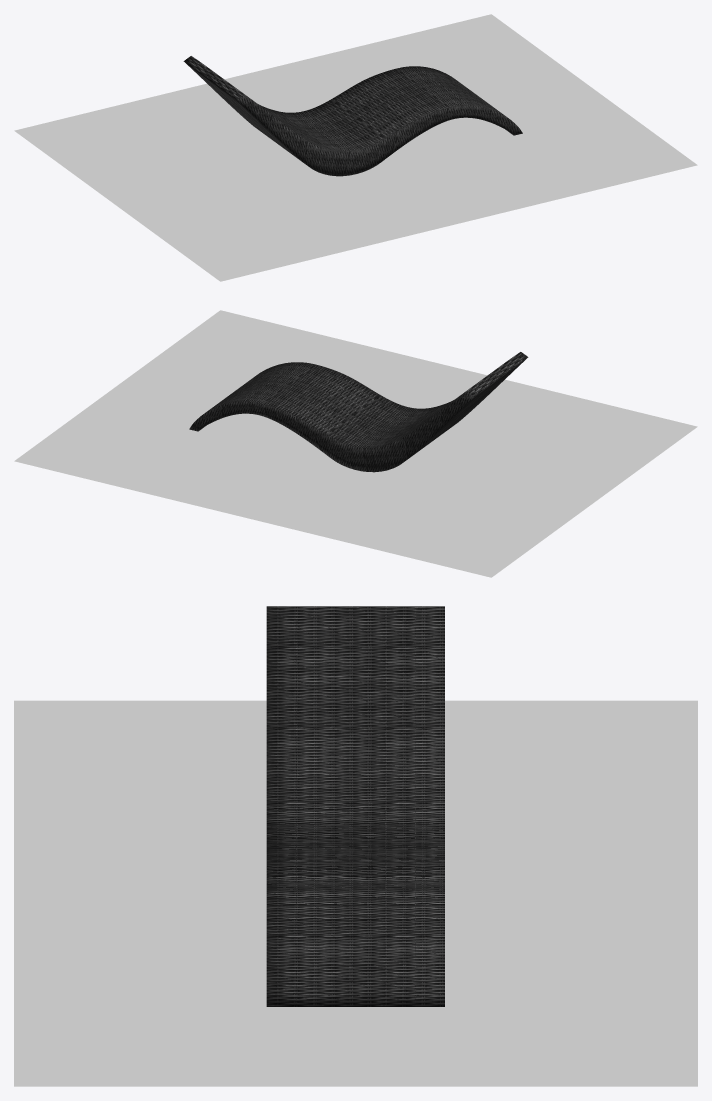
The model's file is beachchair.glb.
3 views of the same model, one above another, from view 1: azimuth 30°, elevation 25°; view 2: azimuth 150°, elevation 25°; view 3: azimuth 270°, elevation 25° (orthographic). The views are drawn at different scales.
Parts seen in each view (by area): view 1: Plane, beach chair; view 2: Plane, beach chair; view 3: Plane, beach chair.
Part boxes in pixels (x1,y1,x2,y2): Plane: [14, 14, 697, 281]; beach chair: [183, 56, 522, 176]; Plane: [14, 310, 697, 577]; beach chair: [189, 352, 528, 472]; Plane: [14, 700, 697, 1086]; beach chair: [266, 606, 444, 1006].
Size of the model in its own units: 3.33 by 0.7075 by 2.49.
2 materials, 1 textured.
